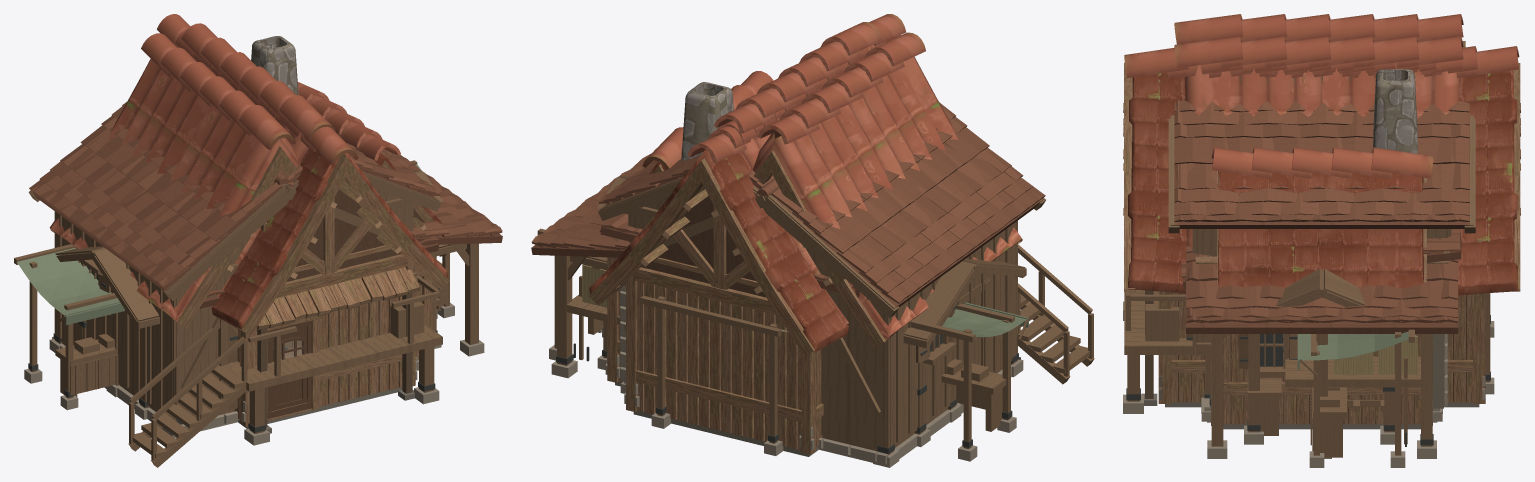
File: catalog.glb
The picture shows the model from 3 angles, left to right: view 1: azimuth 30°, elevation 25°; view 2: azimuth 150°, elevation 25°; view 3: azimuth 270°, elevation 25°; orthographic projection. The views are drawn at different scales.
Visible parts, largest first — view 1: Wall_WoodWear_Door_Flat (×3), Roof_RoundTiles_4x4 (×4), facility-farm-roof (×2), Roof_FlatTiles_4x6 (×2), facility-farm-walls, facility-granary-stairs, facility-granary-deck, facility-market-roof (×2), facility-lumber-roof (×2), facility-granary-roof (×2), facility-farm-detail, facility-farm-supports (+14 smaller); view 2: Wall_WoodWear_Door_Flat (×2), Roof_RoundTiles_4x4 (×4), facility-farm-roof (×2), facility-farm-walls, Roof_FlatTiles_4x6 (×2), facility-market-supports, facility-granary-stairs, facility-lumber-roof (×2), facility-farm-supports, facility-farm-detail, facility-granary-roof (×2), Wall_Plaster_Door_Round (+9 smaller); view 3: Roof_RoundTiles_4x4 (×4), facility-granary-roof (×2), Roof_FlatTiles_4x6 (×2), Roof_2x4_FlatTile (×2), facility-farm-roof (×2), Wall_WoodWear_Door_Flat (×2), Wall_Plaster_Door_Round (×2), facility-farm-core, facility-farm-supports, Prop_Chimney2, facility-market-supports, facility-lumber-roof (×2) (+13 smaller).
Part boxes in pixels (<box>): Wall_WoodWear_Door_Flat (×3): <box>234,154,449,426</box>; Roof_RoundTiles_4x4 (×4): <box>49,23,400,321</box>; facility-farm-roof (×2): <box>28,102,502,300</box>; Roof_FlatTiles_4x6 (×2): <box>157,14,447,330</box>; facility-farm-walls: <box>55,212,250,420</box>; facility-granary-stairs: <box>128,323,247,467</box>; facility-granary-deck: <box>224,275,442,391</box>; facility-market-roof (×2): <box>17,164,420,325</box>; facility-lumber-roof (×2): <box>55,170,466,328</box>; facility-granary-roof (×2): <box>214,142,441,265</box>; facility-farm-detail: <box>52,215,298,428</box>; facility-farm-supports: <box>49,211,484,438</box>; Wall_WoodWear_Door_Flat (×2): <box>589,35,900,454</box>; Roof_RoundTiles_4x4 (×4): <box>616,22,1022,340</box>; facility-farm-roof (×2): <box>531,102,1045,317</box>; facility-farm-walls: <box>805,221,1016,448</box>; Roof_FlatTiles_4x6 (×2): <box>589,14,906,352</box>; facility-market-supports: <box>549,255,1016,461</box>; facility-granary-stairs: <box>1017,244,1094,384</box>; facility-lumber-roof (×2): <box>570,176,1026,348</box>; facility-farm-supports: <box>551,220,1023,467</box>; facility-farm-detail: <box>556,228,1020,464</box>; facility-granary-roof (×2): <box>598,155,844,279</box>; Wall_Plaster_Door_Round: <box>607,150,1022,382</box>; Roof_RoundTiles_4x4 (×4): <box>1174,14,1463,285</box>; facility-granary-roof (×2): <box>1168,100,1475,233</box>; Roof_FlatTiles_4x6 (×2): <box>1124,46,1519,295</box>; Roof_2x4_FlatTile (×2): <box>1218,171,1423,289</box>; facility-farm-roof (×2): <box>1186,246,1458,333</box>; Wall_WoodWear_Door_Flat (×2): <box>1123,63,1520,403</box>; Wall_Plaster_Door_Round (×2): <box>1195,41,1465,425</box>; facility-farm-core: <box>1247,335,1420,435</box>; facility-farm-supports: <box>1207,334,1436,458</box>; Prop_Chimney2: <box>1373,69,1417,153</box>; facility-market-supports: <box>1309,293,1494,467</box>; facility-lumber-roof (×2): <box>1223,269,1420,337</box>.
Bounding box in the file's own units: 9.96 × 6.9 × 7.59.
Materials: 11 (8 with a texture image).
